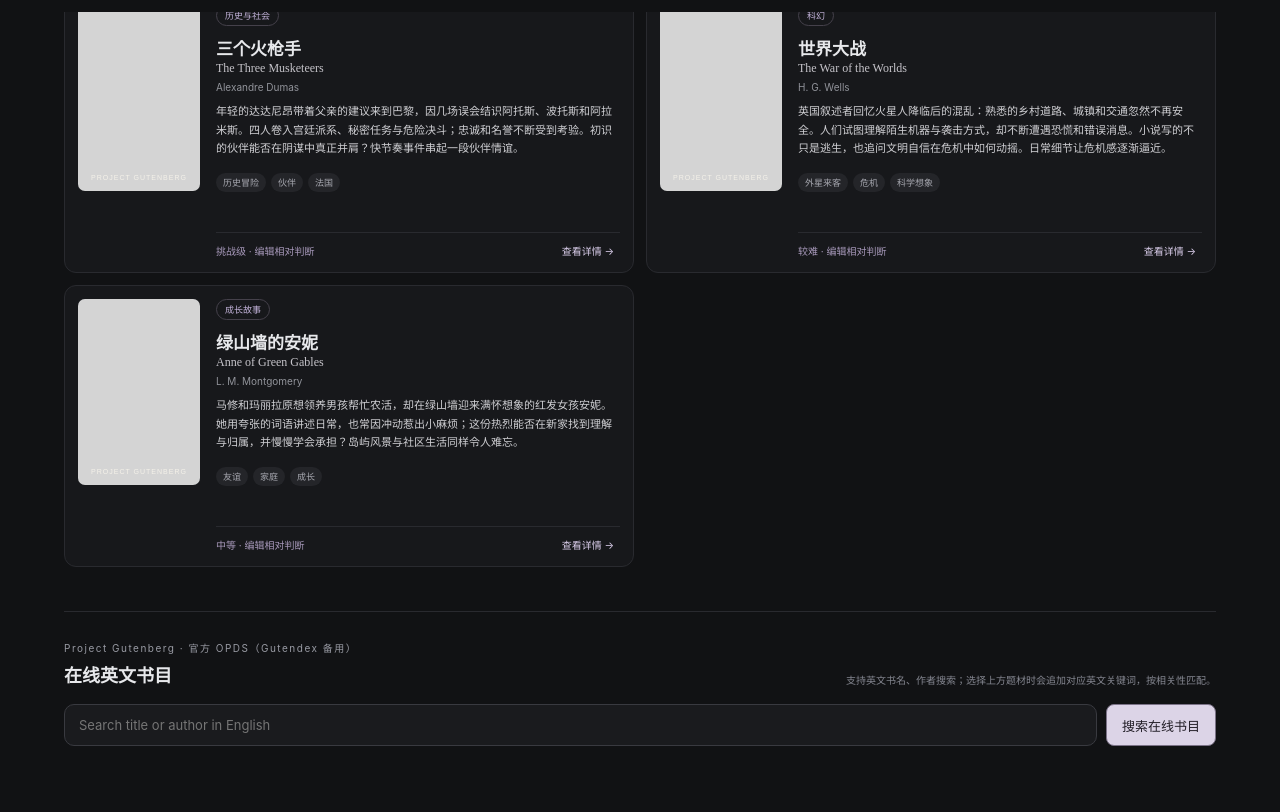
Test case: renders online catalog failures as retryable UI without losing curated books
(page scrolled)
Click the button "搜索在线书目" at (1161, 725), box top-left (1106, 704), bottom-right (1216, 746)
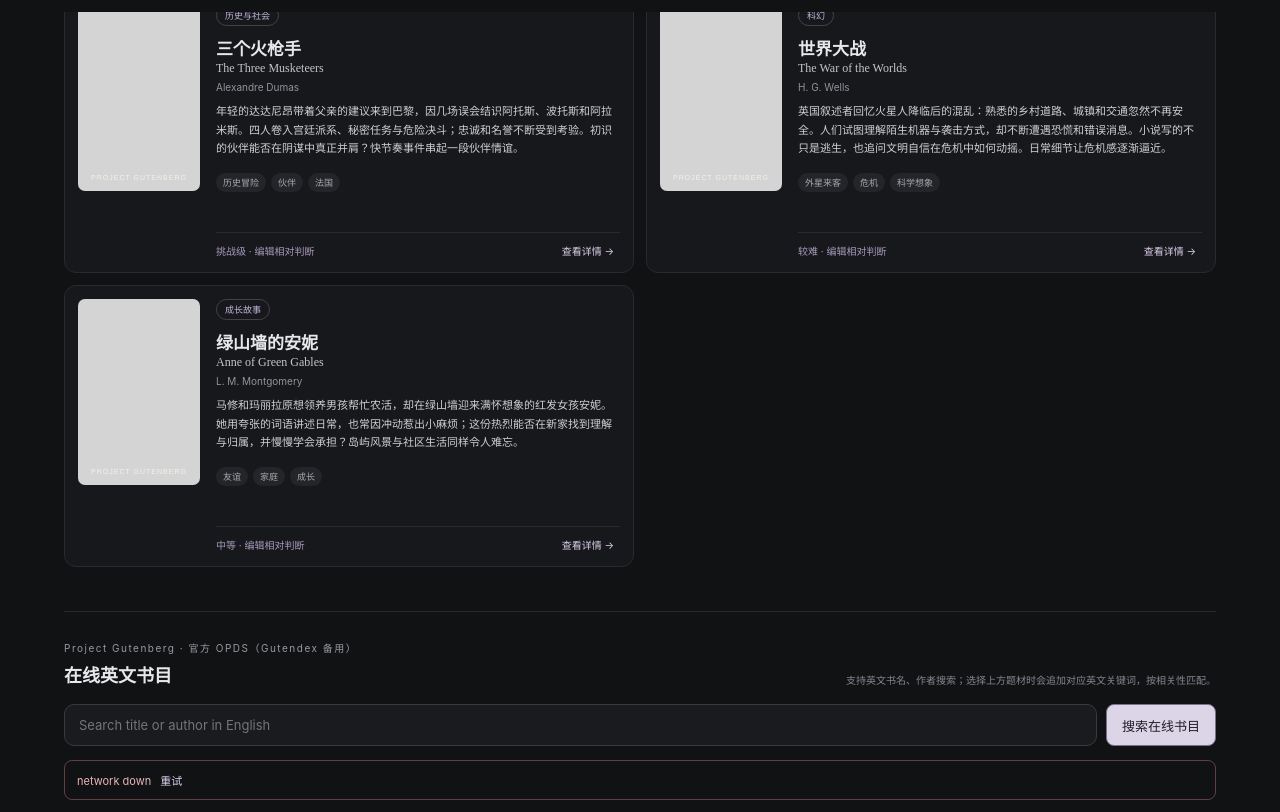
expect the message "network down 重试" is shown: met, box top-left (64, 760), bottom-right (1216, 800)
expect the button "重试" is shown: met, box top-left (154, 771), bottom-right (188, 789)
